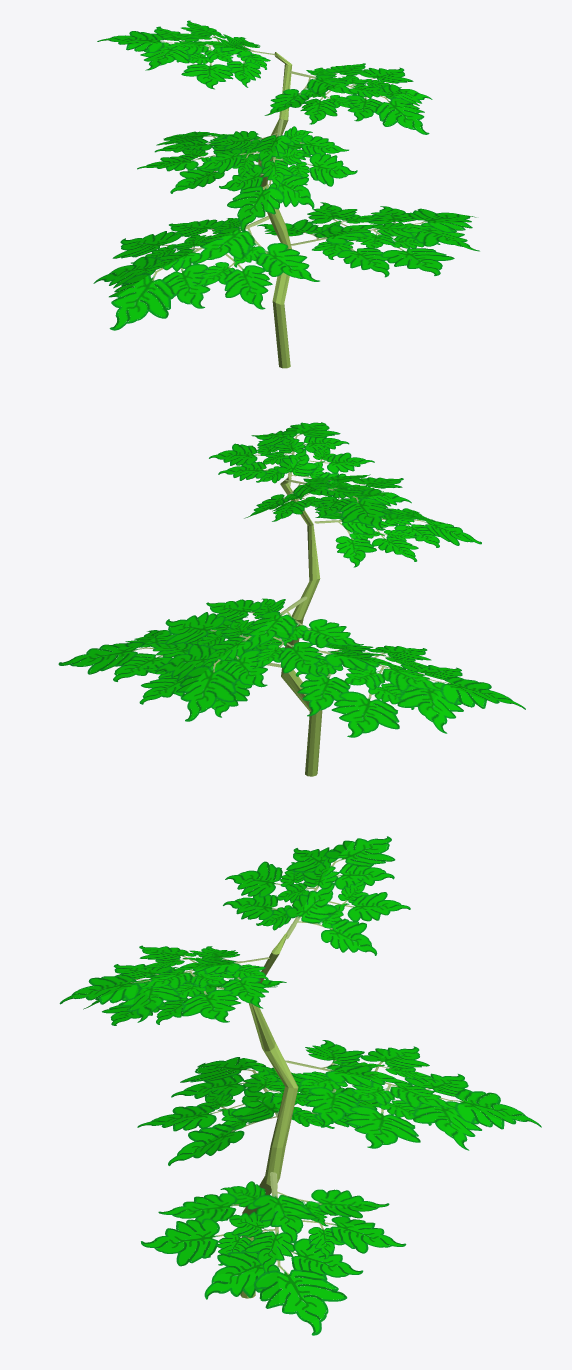
File: TomateF1.glb
The picture shows the model from 3 angles, top to bottom: view 1: azimuth 30°, elevation 25°; view 2: azimuth 150°, elevation 25°; view 3: azimuth 270°, elevation 25°; orthographic projection. The views are drawn at different scales.
Parts seen in each view (by area): view 1: TomateF1; view 2: TomateF1; view 3: TomateF1.
Boxes of the visible parts, x1,y1,x2,y2 form: TomateF1: [93, 20, 479, 368]; TomateF1: [58, 422, 525, 776]; TomateF1: [59, 836, 541, 1335].
Size of the model in its own units: 0.2388 by 0.1647 by 0.2102.
Materials: 1 (1 with a texture image).
